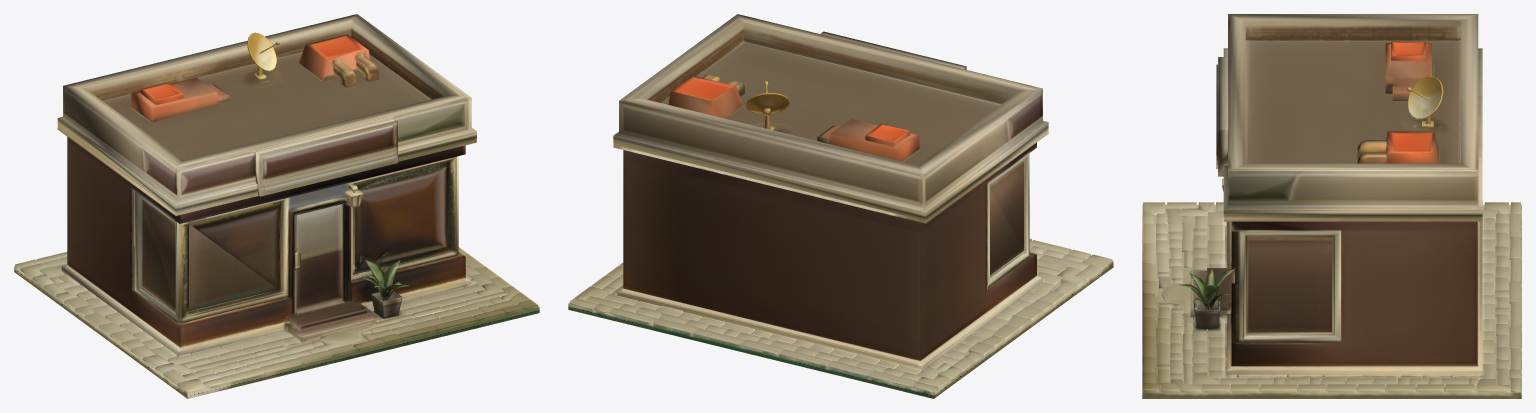
The model's file is stylized+bookstore+3d+model.fbx.fbx.
The picture shows the model from 3 angles, left to right: view 1: azimuth 30°, elevation 25°; view 2: azimuth 150°, elevation 25°; view 3: azimuth 270°, elevation 25°; orthographic projection. The views are drawn at different scales.
Visible parts, largest first — view 1: f7b9c2ae_12bf_4eb1_82c4_d23ed63270c1; view 2: f7b9c2ae_12bf_4eb1_82c4_d23ed63270c1; view 3: f7b9c2ae_12bf_4eb1_82c4_d23ed63270c1.
Part boxes in pixels (x1=…): f7b9c2ae_12bf_4eb1_82c4_d23ed63270c1: x1=14, y1=14, x2=539, y2=398; f7b9c2ae_12bf_4eb1_82c4_d23ed63270c1: x1=568, y1=14, x2=1113, y2=398; f7b9c2ae_12bf_4eb1_82c4_d23ed63270c1: x1=1142, y1=14, x2=1521, y2=398.
Size of the model in its own units: 1 by 0.5916 by 0.8525.
1 material, 1 textured.
